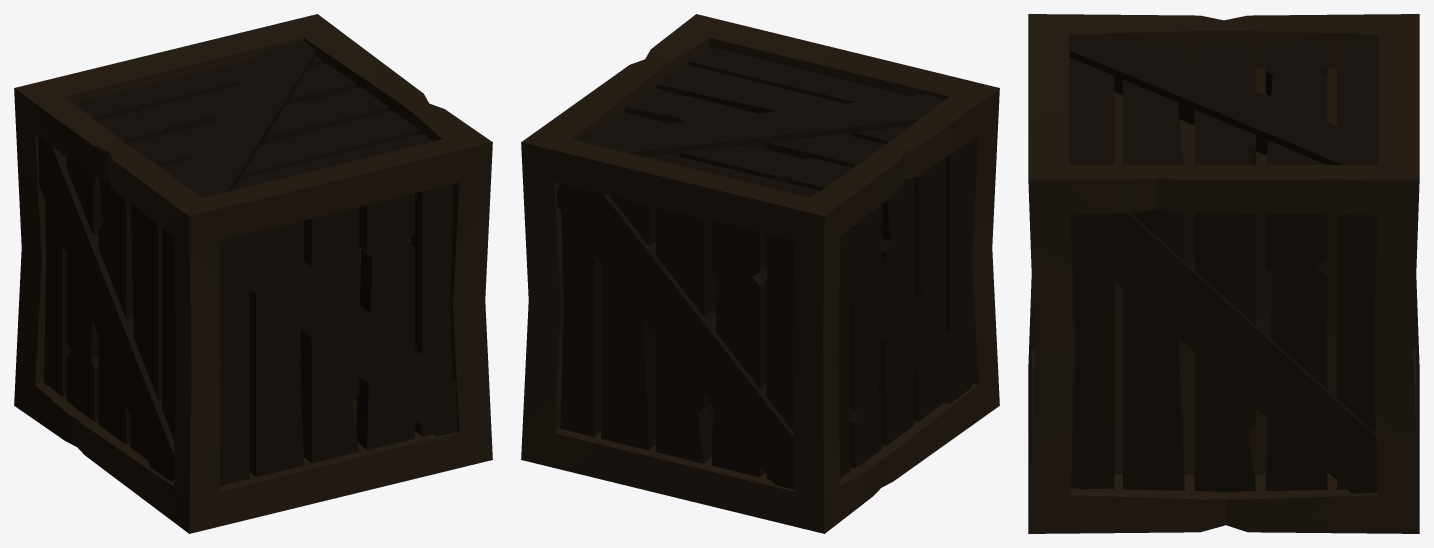
Rendered from crate.glb.
3 views of the same model, side by side, from view 1: azimuth 30°, elevation 25°; view 2: azimuth 150°, elevation 25°; view 3: azimuth 270°, elevation 25° (orthographic). The views are drawn at different scales.
Visible parts, largest first — view 1: Crate_Cube.259; view 2: Crate_Cube.259; view 3: Crate_Cube.259.
Part boxes in pixels (x1,y1,x2,y2): Crate_Cube.259: [14, 14, 492, 533]; Crate_Cube.259: [521, 14, 999, 533]; Crate_Cube.259: [1028, 14, 1419, 533].
Size of the model in its own units: 0.8239 by 0.824 by 0.824.
